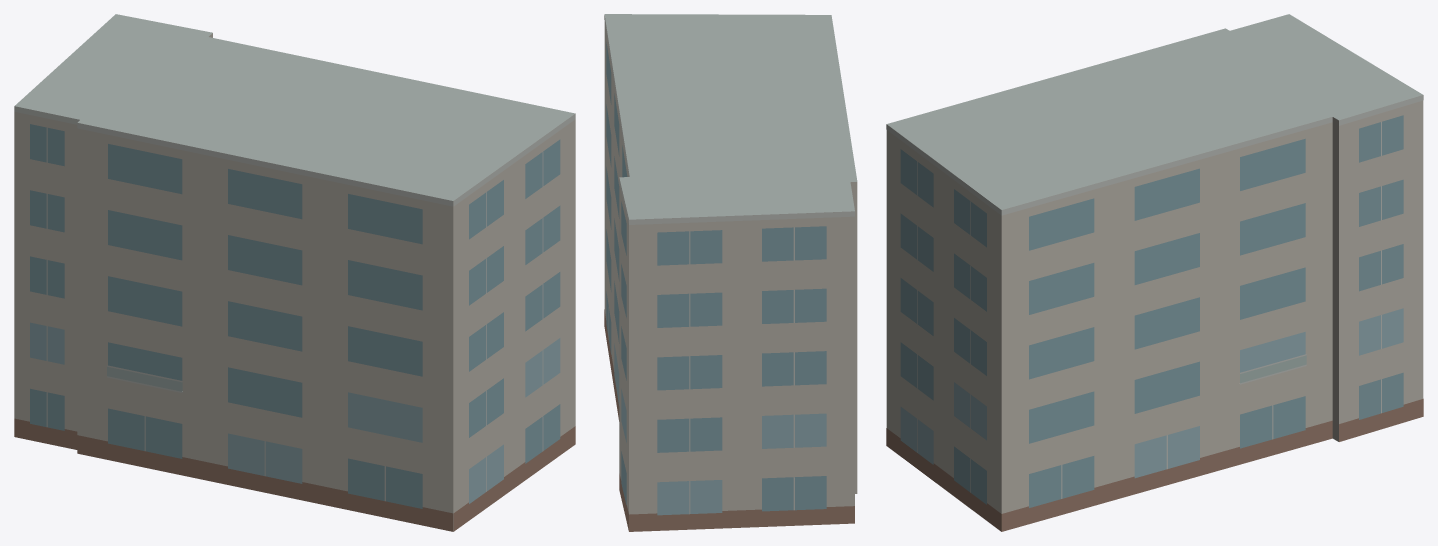
The model's file is survey-upis-32927886.glb.
The picture shows the model from 3 angles, left to right: view 1: azimuth 30°, elevation 25°; view 2: azimuth 150°, elevation 25°; view 3: azimuth 270°, elevation 25°; orthographic projection. The views are drawn at different scales.
Visible parts, largest first — view 1: survey-upis-32927886.tmp; view 2: survey-upis-32927886.tmp; view 3: survey-upis-32927886.tmp.
Boxes of the visible parts, <box> form: survey-upis-32927886.tmp: <box>14,14,575,531</box>; survey-upis-32927886.tmp: <box>604,14,857,531</box>; survey-upis-32927886.tmp: <box>886,14,1423,531</box>.
Bounding box in the file's own units: 18.71 × 14.3 × 21.64.
